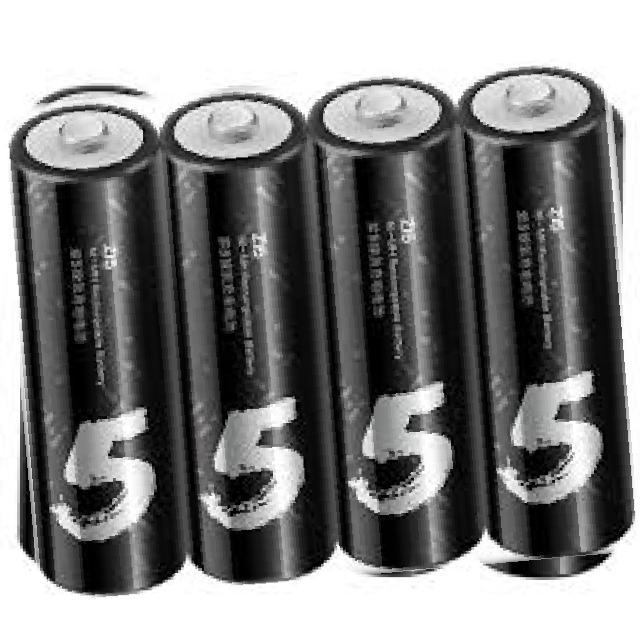Battery: (304, 77, 489, 576), (12, 105, 190, 598), (462, 69, 639, 556), (166, 93, 339, 586)
